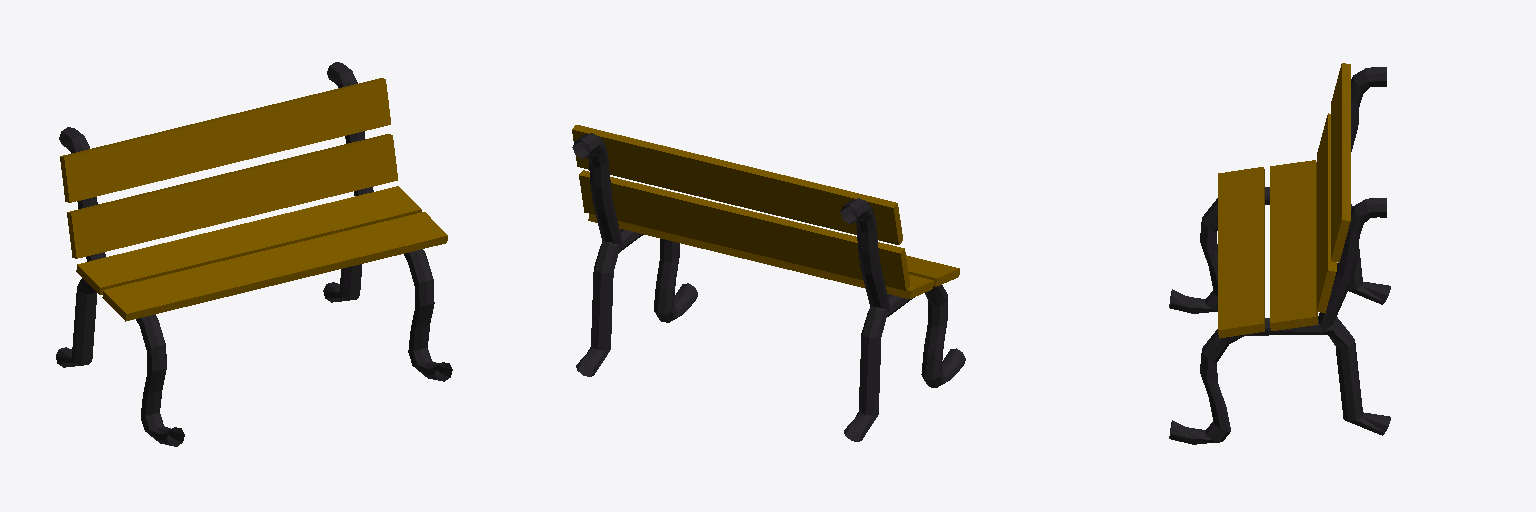
Rendered from bench.obj.
The picture shows the model from 3 angles: view 1: azimuth 30°, elevation 25°; view 2: azimuth 150°, elevation 25°; view 3: azimuth 270°, elevation 25°; orthographic projection.
Parts seen in each view (by area): view 1: Cube.001_Cube.002, Cube, Cube.003_Cube.004, Cube.002_Cube.003, Tube_Tube.002, Tube.001; view 2: Cube.001_Cube.002, Cube, Tube_Tube.002, Tube.001, Cube.002_Cube.003, Cube.003_Cube.004; view 3: Tube.001, Cube.002_Cube.003, Cube.003_Cube.004, Tube_Tube.002, Cube, Cube.001_Cube.002.
Boxes of the visible parts, <box> form: Cube.001_Cube.002: <box>67,134,397,258</box>; Cube: <box>60,78,390,202</box>; Cube.003_Cube.004: <box>102,212,447,321</box>; Cube.002_Cube.003: <box>76,186,421,294</box>; Tube_Tube.002: <box>56,127,184,446</box>; Tube.001: <box>323,62,452,381</box>; Cube.001_Cube.002: <box>579,170,909,290</box>; Cube: <box>572,125,902,244</box>; Tube_Tube.002: <box>840,198,965,441</box>; Tube.001: <box>572,133,697,376</box>; Cube.002_Cube.003: <box>588,214,933,298</box>; Cube.003_Cube.004: <box>906,255,959,286</box>; Tube.001: <box>1169,198,1390,444</box>; Cube.002_Cube.003: <box>1270,160,1317,330</box>; Cube.003_Cube.004: <box>1218,167,1264,338</box>; Tube_Tube.002: <box>1169,67,1390,313</box>; Cube: <box>1331,63,1350,262</box>; Cube.001_Cube.002: <box>1317,113,1336,313</box>.
Bounding box in the file's own units: 1.09 × 0.7942 × 0.6482.